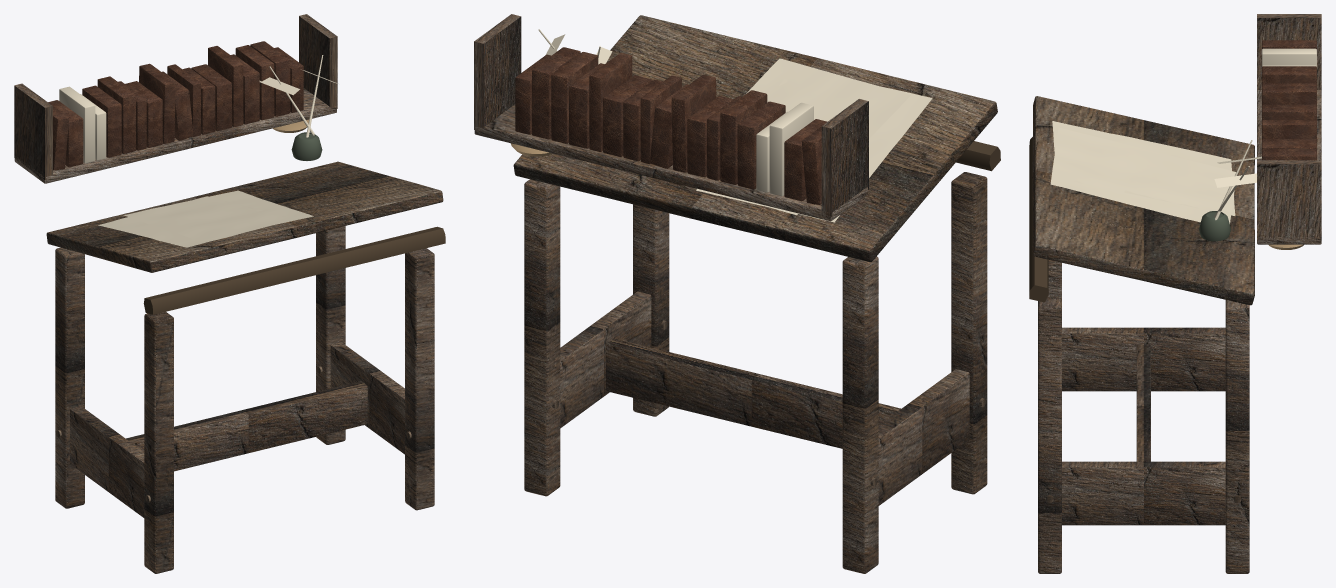
Rendered from scriptorium-desk-v02.glb.
3 renders of one model, left to right at view 1: azimuth 30°, elevation 25°; view 2: azimuth 150°, elevation 25°; view 3: azimuth 270°, elevation 25°, orthographic. The views are drawn at different scales.
Visible parts, largest first — view 1: scriptorium-desk; view 2: scriptorium-desk; view 3: scriptorium-desk.
Boxes of the visible parts, x1,y1,x2,y2 form: scriptorium-desk: (14, 14, 445, 573); scriptorium-desk: (474, 14, 1000, 573); scriptorium-desk: (1029, 14, 1321, 573).
Size of the model in its own units: 1.1 by 1.41 by 0.9043.
Materials: 9 (3 with a texture image).
